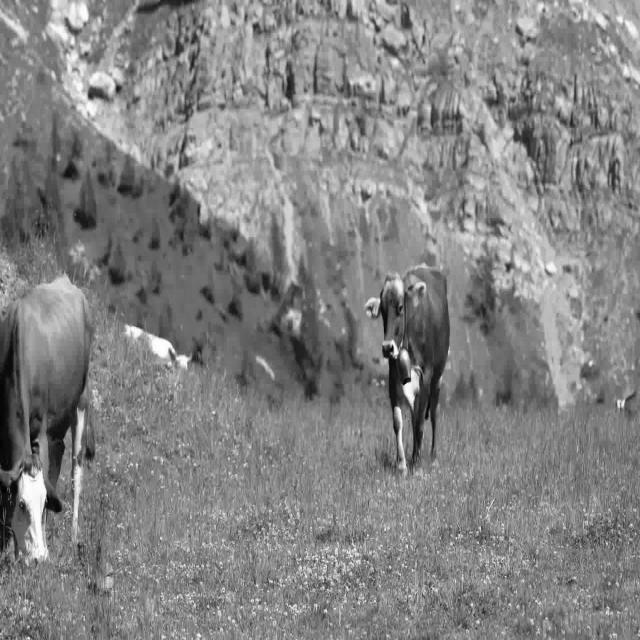cow: (0, 275, 94, 564), (365, 265, 450, 477)
